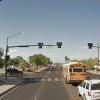Bus: (58, 60, 83, 86)
